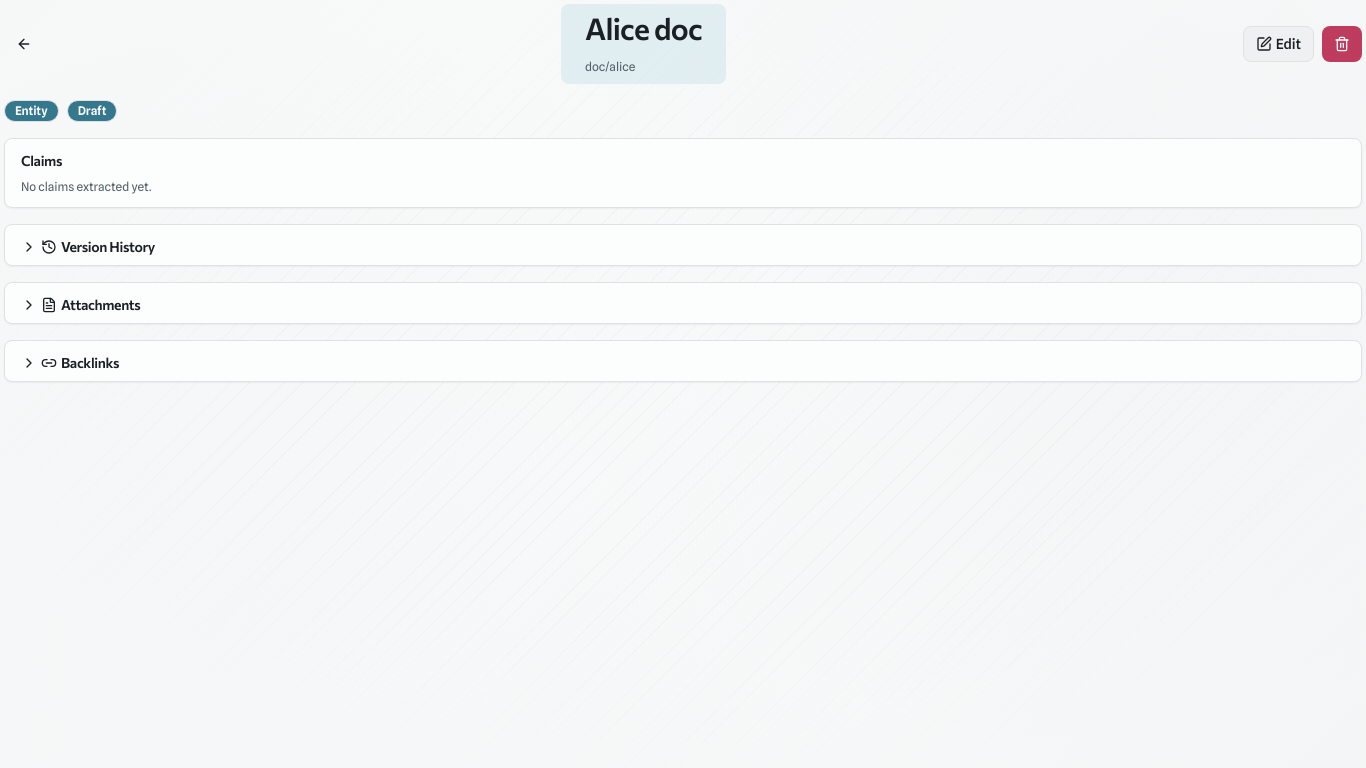
issue 774 WikiPageDetail section failure states › shows a failure line, not the empty verdict, when versions fail to load
Click the text "Version History" at [88, 246], box [21,238,155,255]
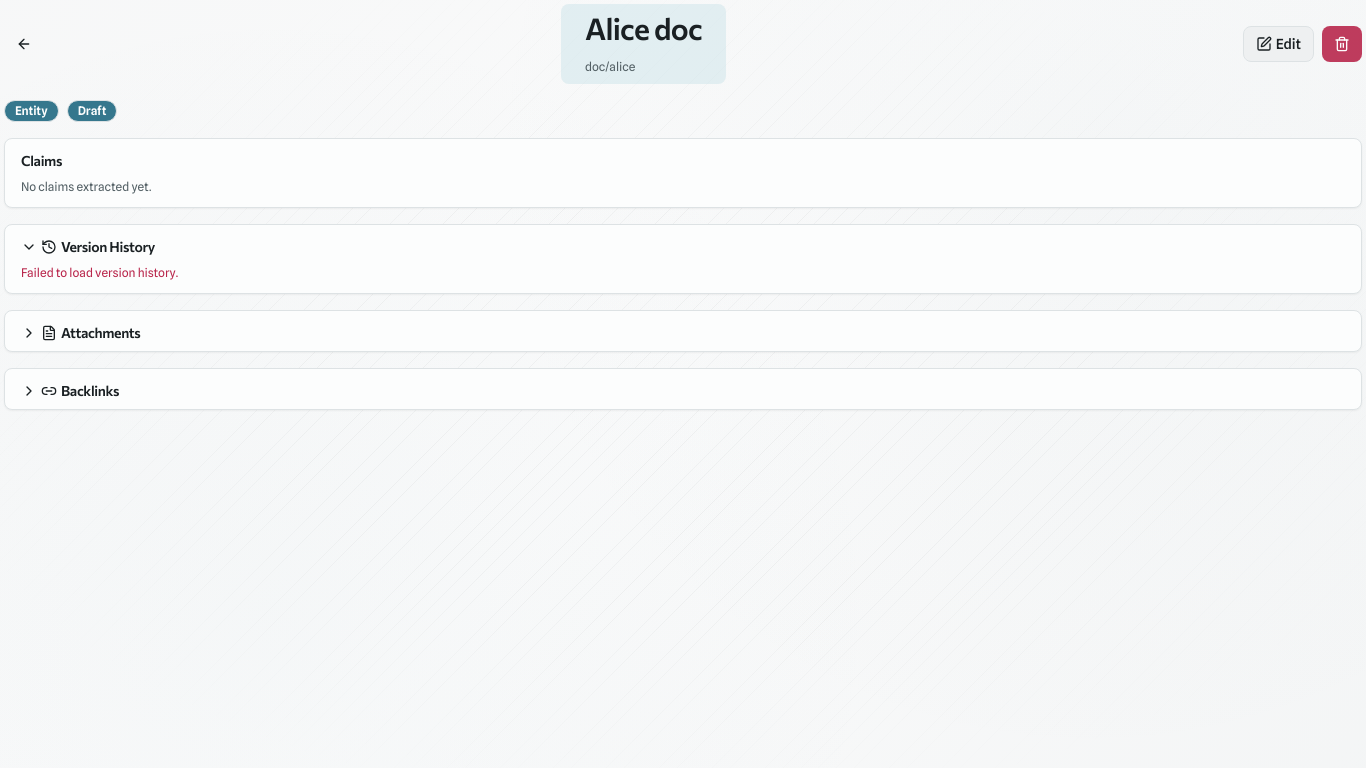
Expected: the message shows "Failed to load version history", [21,265,178,280]
